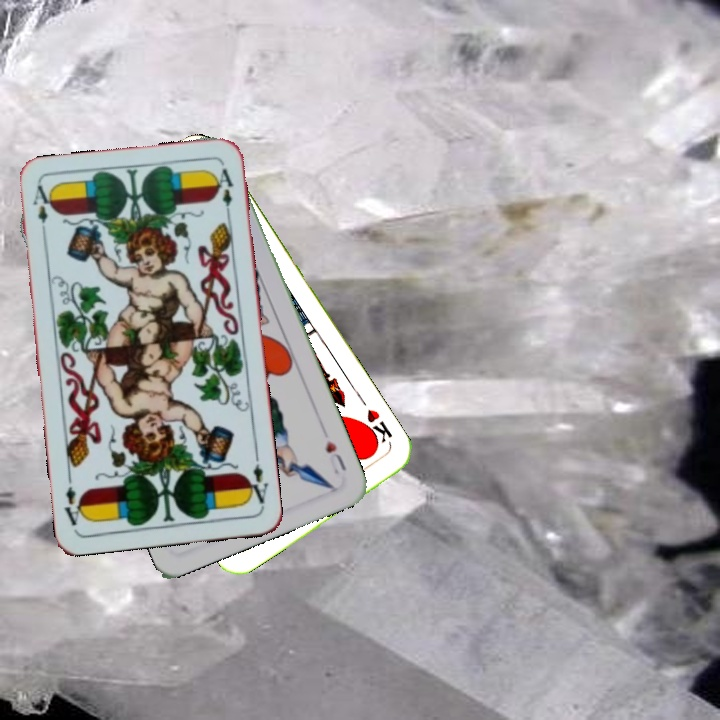EA: (28, 181, 54, 241), (242, 460, 271, 509)
HK: (356, 405, 395, 450)
HU: (321, 436, 349, 477)
